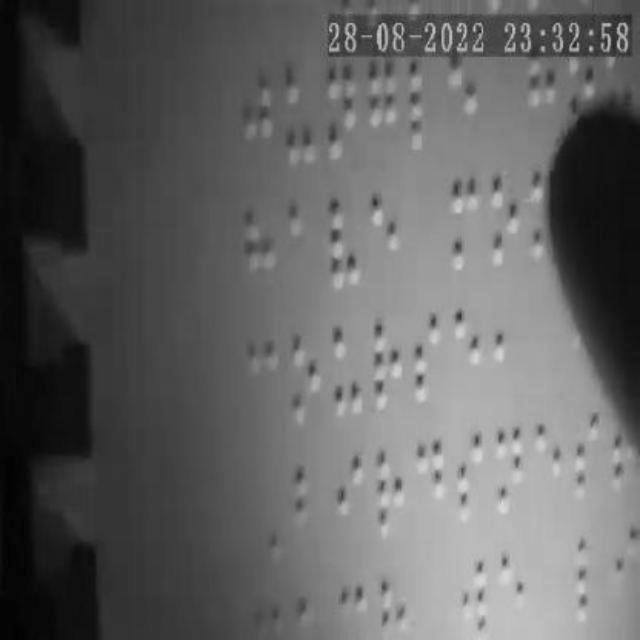braiile: (231, 68, 277, 174), (485, 163, 525, 275), (492, 296, 532, 404), (320, 64, 362, 166), (446, 162, 484, 270), (448, 295, 484, 405), (325, 190, 363, 294), (374, 446, 412, 550), (365, 58, 403, 162), (533, 415, 569, 519), (286, 328, 324, 426), (454, 542, 492, 640), (370, 314, 406, 414), (491, 425, 527, 525), (571, 528, 607, 628), (243, 332, 281, 426), (334, 450, 368, 554), (453, 426, 489, 524), (330, 324, 366, 418), (368, 186, 402, 284), (292, 464, 326, 562), (284, 200, 320, 292), (570, 411, 606, 503), (414, 436, 448, 532), (283, 68, 315, 170), (496, 540, 528, 640), (242, 206, 274, 304), (410, 308, 442, 402), (410, 62, 442, 154)
